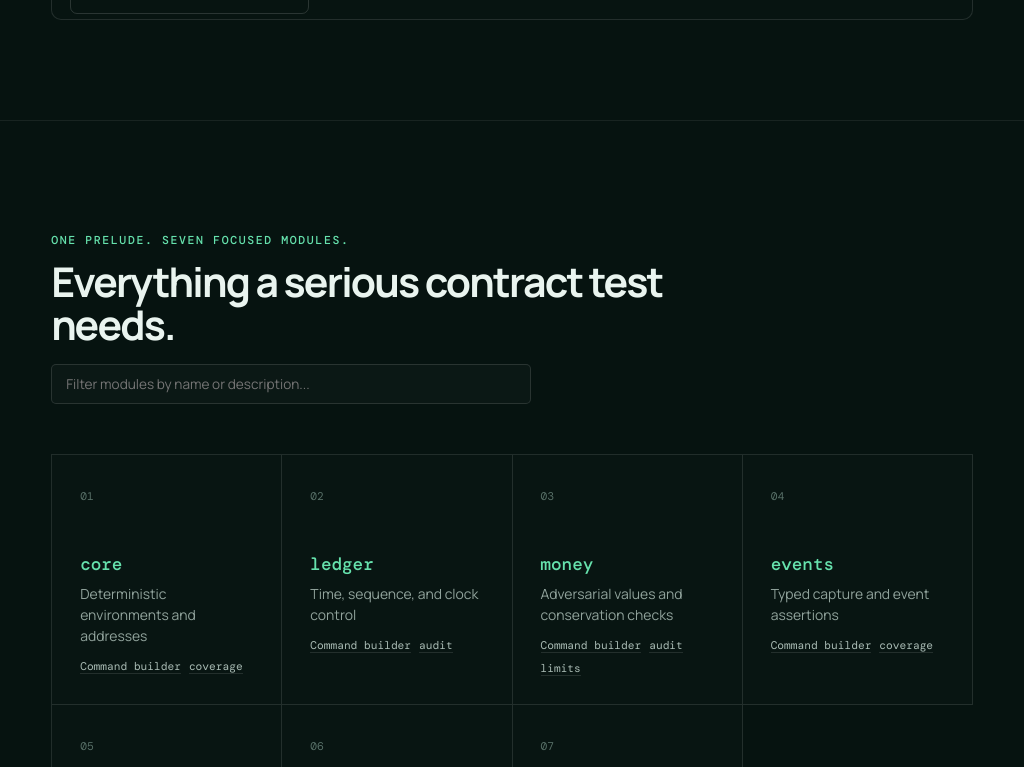
Test case: Module filter and empty-state layout (#188) › renders an accessible empty-state layout when no modules match the filter
(page scrolled)
Type "nonexistent-module" into the search field labelled "Filter modules" at [291, 384], box [51,364,531,404]
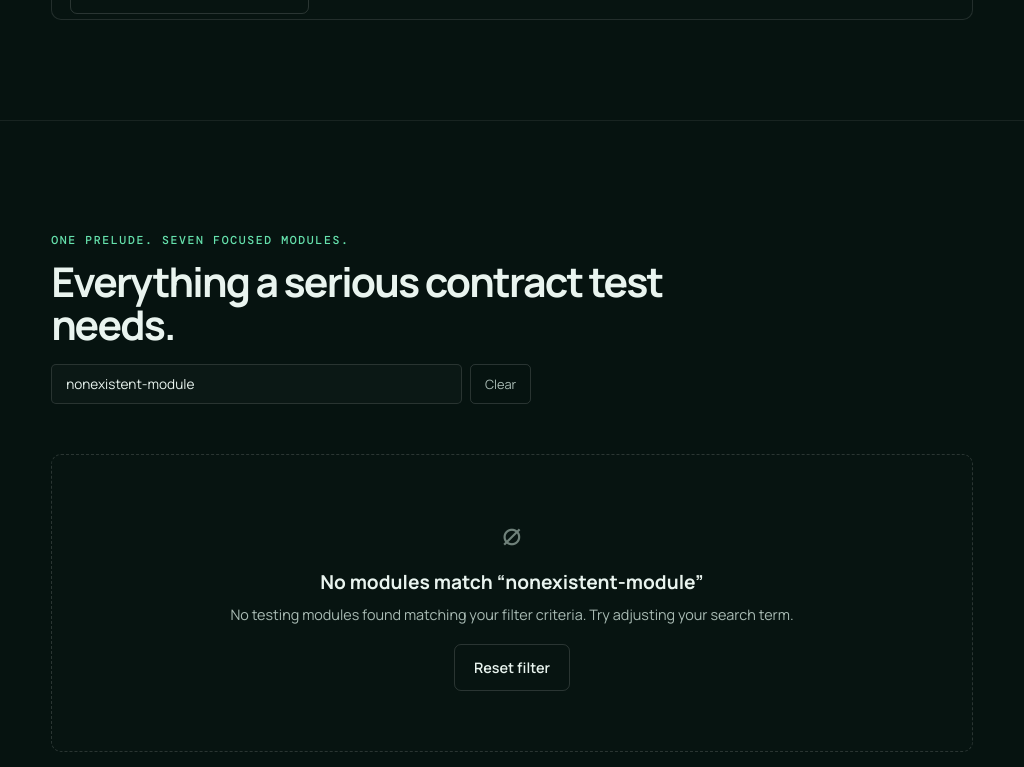
Now the heading "No modules match “nonexistent-module”" is shown, box [320,569,704,595]
Now the button "Reset filter" is shown
Click the button "Reset filter" at [512, 668], box [454,644,570,691]
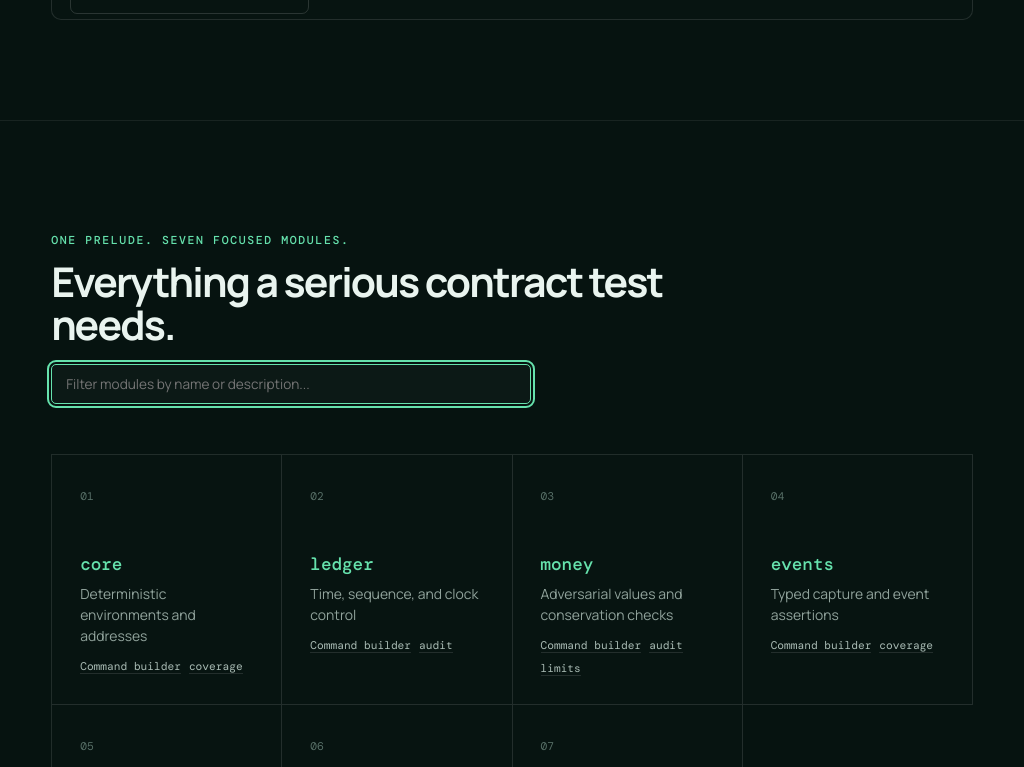
Now the heading "core" is shown, box [80,553,122,575]
